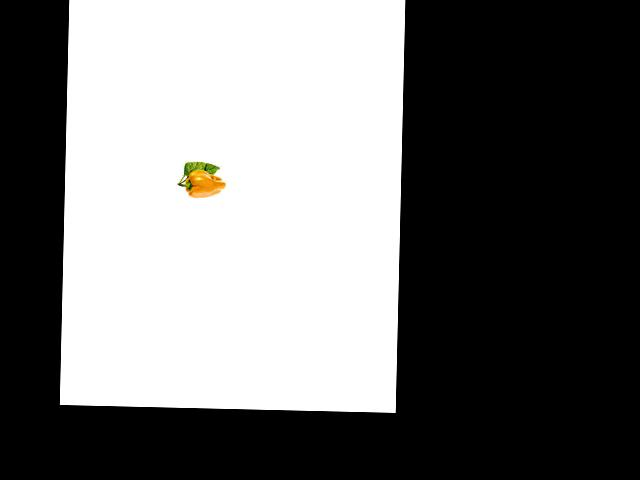bell_pepper: (176, 168, 227, 201)
